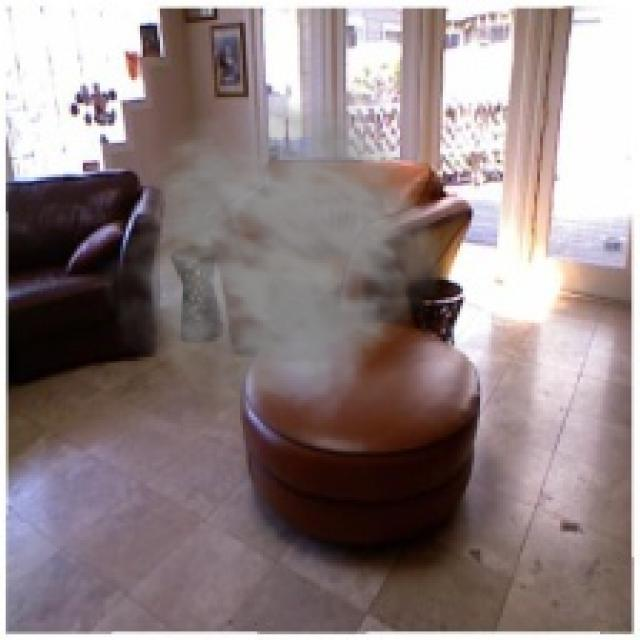smoke: (97, 92, 443, 434)
